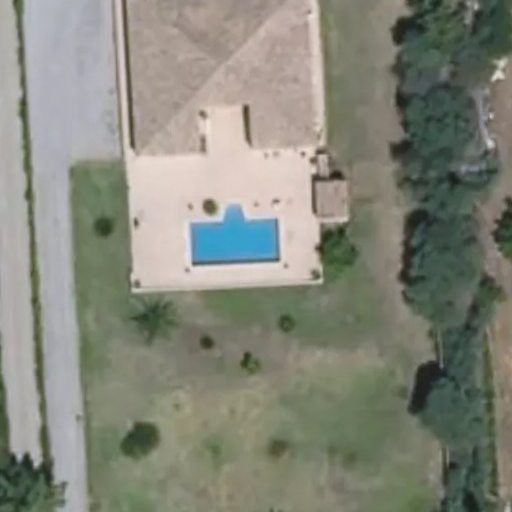pool: (190, 204, 284, 267)
